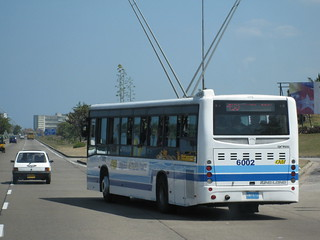bus: (87, 95, 299, 214)
car: (11, 150, 54, 184)
